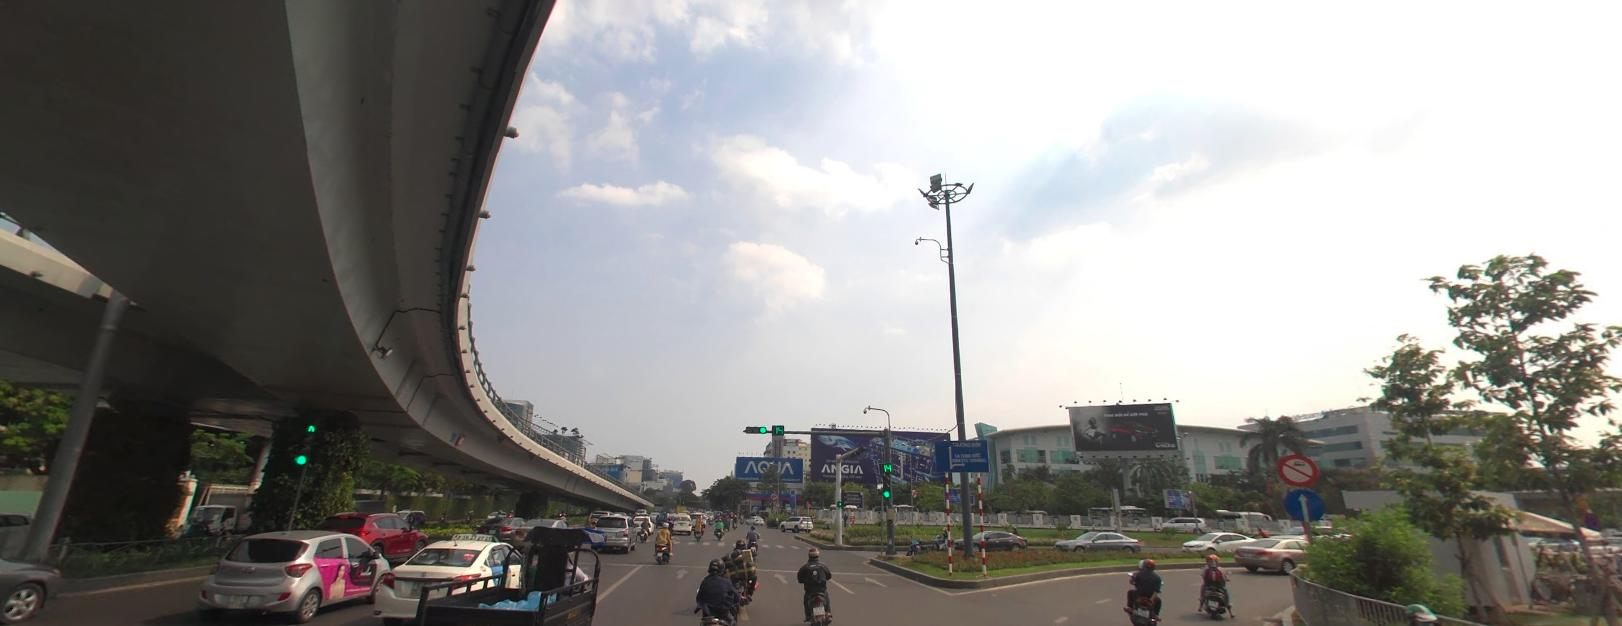Cam con lai: (1278, 452, 1319, 485), (455, 430, 465, 445)
Hieu lenh: (1283, 487, 1325, 521)
